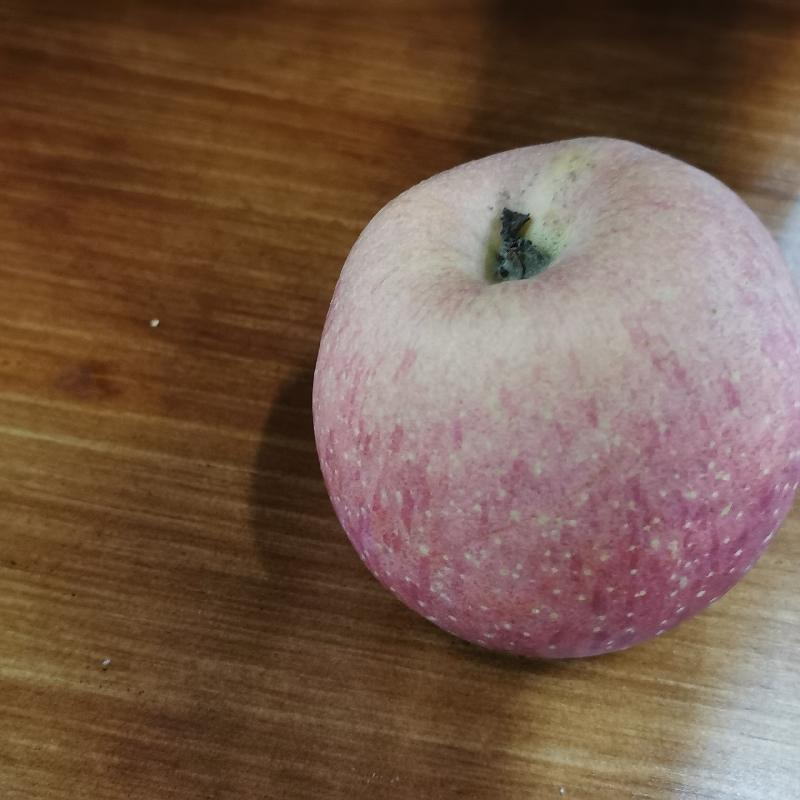apples: (306, 126, 800, 668)
